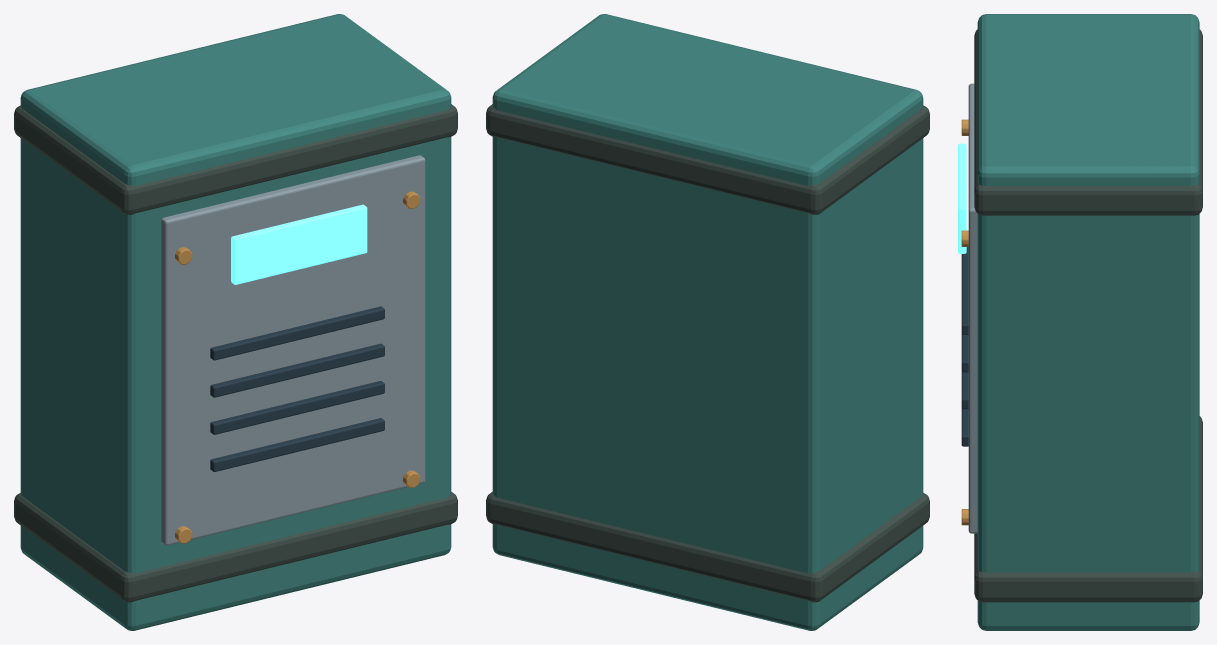
Rendered from electric_box.glb.
3 renders of one model, left to right at view 1: azimuth 30°, elevation 25°; view 2: azimuth 150°, elevation 25°; view 3: azimuth 270°, elevation 25°, orthographic.
Visible parts, largest first — view 1: Band.016; view 2: Band.016; view 3: Band.016.
Boxes of the visible parts, left/top/right/bottom form: Band.016: left=14, top=14, right=457, bottom=630; Band.016: left=486, top=14, right=929, bottom=630; Band.016: left=958, top=14, right=1202, bottom=630.
Size of the model in its own units: 1.13 by 1.5 by 0.7172.
